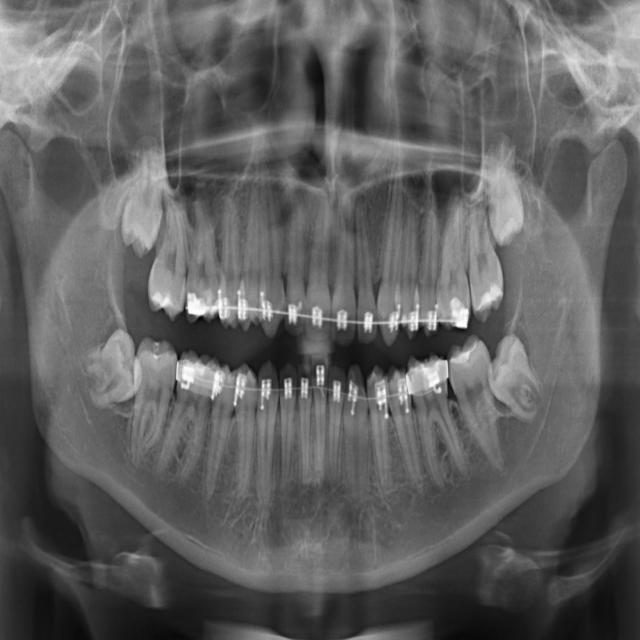CompositeResinRestoration: (450, 334, 484, 376), (146, 278, 177, 318), (476, 282, 504, 320)
